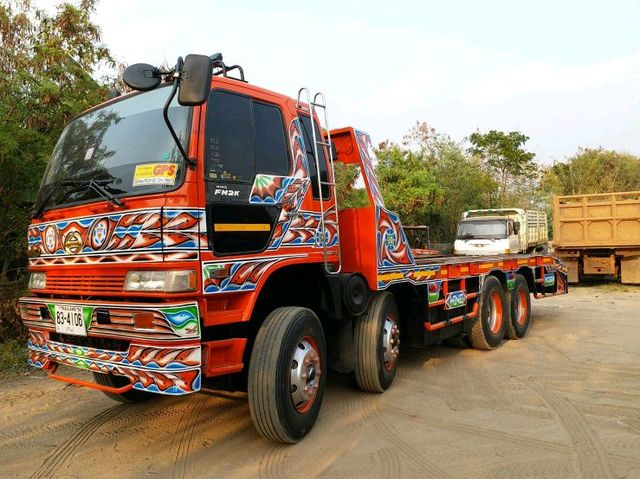truck: (17, 71, 402, 445)
